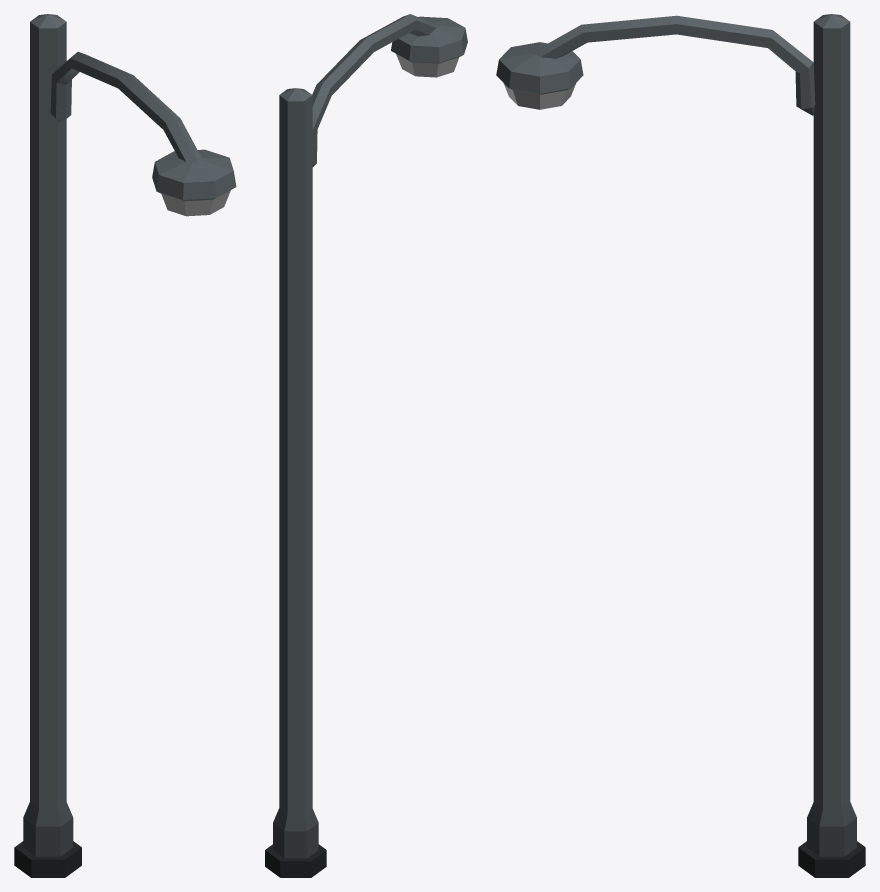
File: StreetLamp.obj
3 renders of one model, left to right at view 1: azimuth 30°, elevation 25°; view 2: azimuth 150°, elevation 25°; view 3: azimuth 270°, elevation 25°, orthographic. The views are drawn at different scales.
Visible parts, largest first — view 1: StreetLamp; view 2: StreetLamp; view 3: StreetLamp.
Part boxes in pixels (bbox=[...]): StreetLamp: bbox=[14, 14, 236, 877]; StreetLamp: bbox=[265, 14, 467, 877]; StreetLamp: bbox=[496, 14, 865, 877].
Size of the model in its own units: 0.4184 by 4.5 by 1.77.
1 material, 1 textured.
